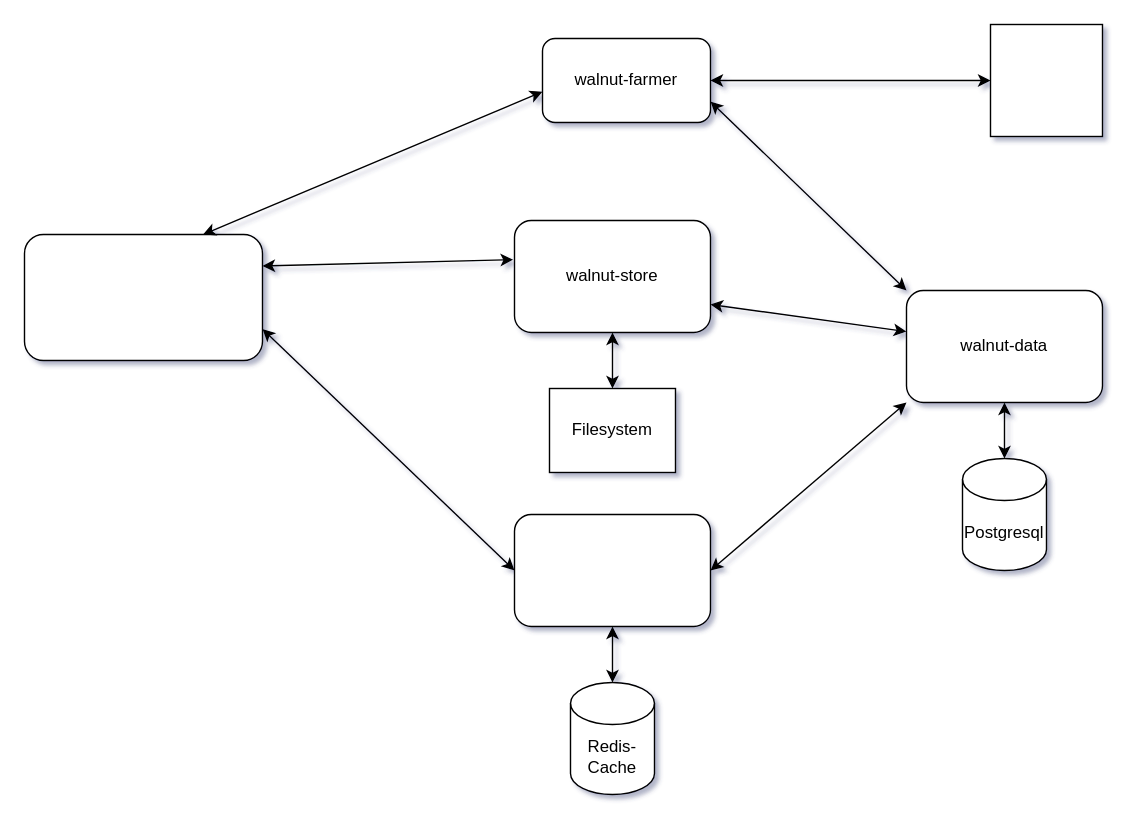
Some shapes in this 1135 by 827 pixel diagram are drawn without their labels. Here are the shapes that lost their labels. From the top down, the centre of each, then its label:
At [1045,79]: "bazel-buildfarm".
At [142,296]: "walnut-api".
At [611,569]: "walnut-auth".
